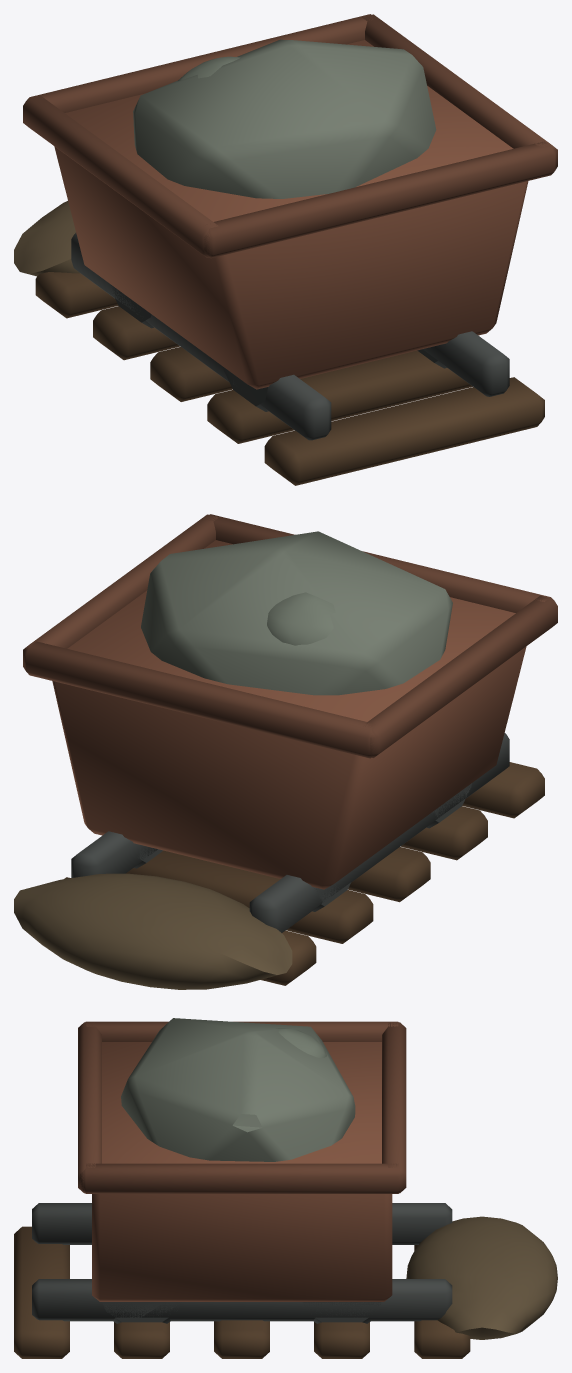
Rendered from ore_cart_stub_a.glb.
3 renders of one model, top to bottom at view 1: azimuth 30°, elevation 25°; view 2: azimuth 150°, elevation 25°; view 3: azimuth 270°, elevation 25°, orthographic. The views are drawn at different scales.
Visible parts, largest first — view 1: Surface; view 2: Surface; view 3: Surface.
Boxes of the visible parts, left/top/right/bottom form: Surface: left=14, top=14, right=557, bottom=485; Surface: left=14, top=514, right=557, bottom=989; Surface: left=14, top=1018, right=557, bottom=1358.
Size of the model in its own units: 1.8 by 1.56 by 2.72.
